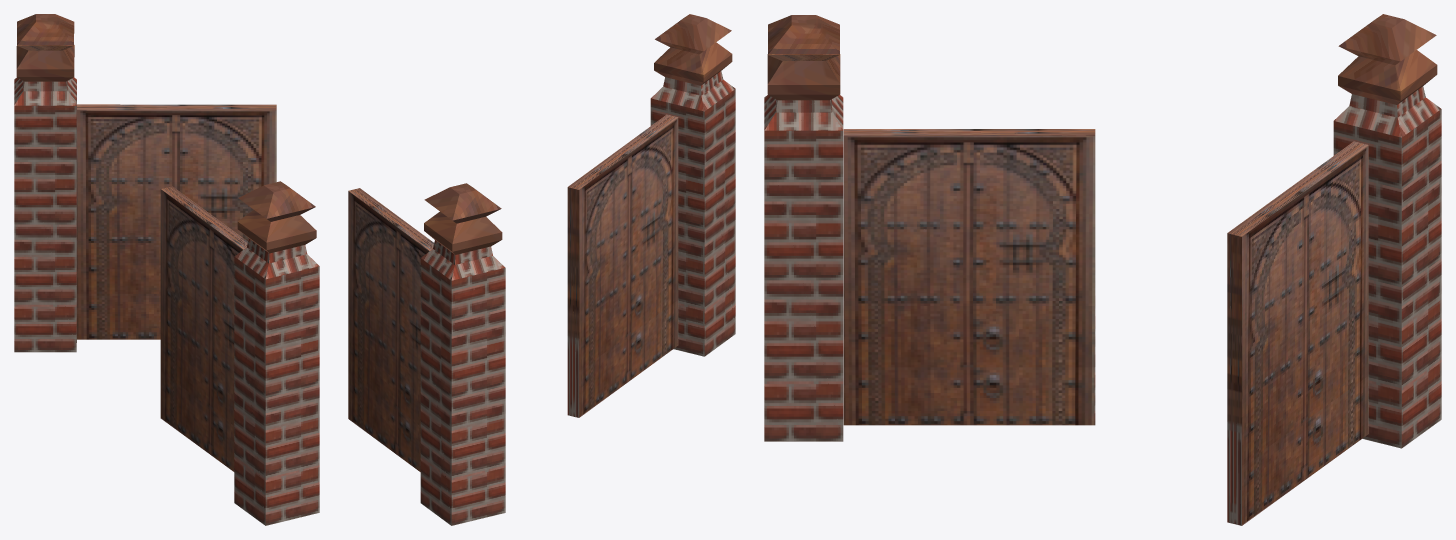
Rendered from church gate.fbx.
3 renders of one model, left to right at view 1: azimuth 30°, elevation 25°; view 2: azimuth 150°, elevation 25°; view 3: azimuth 270°, elevation 25°, orthographic. The views are drawn at different scales.
Visible parts, largest first — view 1: Cube; view 2: Cube; view 3: Cube.
Part boxes in pixels (x1,y1,x2,y2): Cube: (14, 14, 319, 525); Cube: (348, 14, 735, 525); Cube: (764, 14, 1441, 525).
Bounding box in the file's own units: 1261 × 1844 × 2789.
